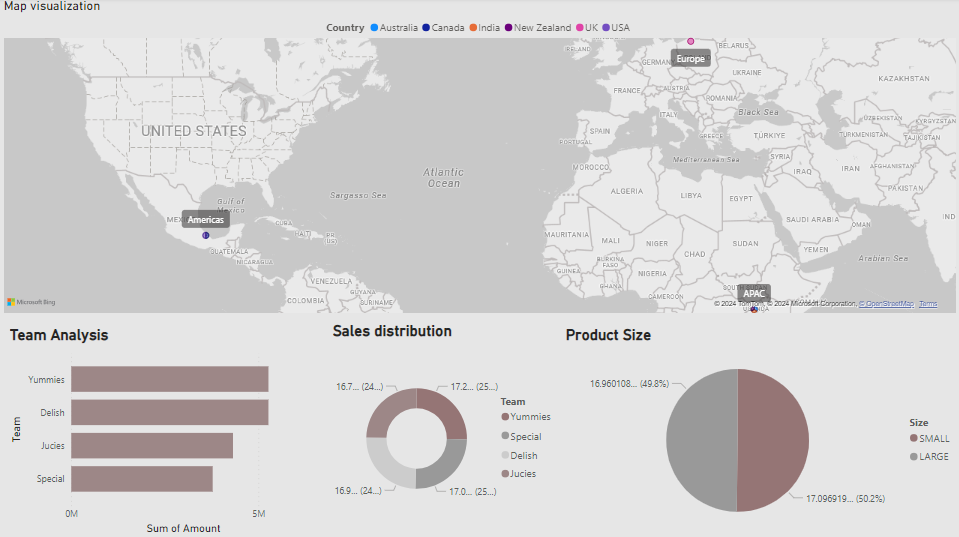

What the dashboard file says about the page in this screenshot:
{"tool":"powerbi","page":{"name":"Map Visualization","canvas":[1280,720],"ordinal":0},"visuals":[{"type":"clusteredBarChart","title":"Team Analysis","fields":{"Y":["Sum(sales.Amount)"],"Category":["people.Team"]},"box":[8.3,437.7,400.5,282.2],"z":1000},{"type":"map","title":"Map visualization","fields":{"Series":["locations.Geo"],"Category":["locations.Region"]},"box":[0,0,1280,425.3],"z":2001},{"type":"donutChart","title":"Sales distribution","fields":{"Category":["people.Team"],"Y":["sales.Amount Per Box"]},"box":[439.1,432.2,309.7,287.7],"z":2002},{"type":"pieChart","title":"Product Size","fields":{"Category":["products.Size"],"Y":["sales.Amount Per Box"]},"box":[748.7,437.7,531.3,282.2],"z":2003}]}

Visuals, with their boxes in screenshot pixels (x1, y1, x2, y2), scaled from the page's 1280x720 canvas onto the 959x537 screenshot:
"Team Analysis" clusteredBarChart: 6 326 306 536
"Map visualization" map: 0 0 958 317
"Sales distribution" donutChart: 329 322 561 536
"Product Size" pieChart: 561 326 958 536
